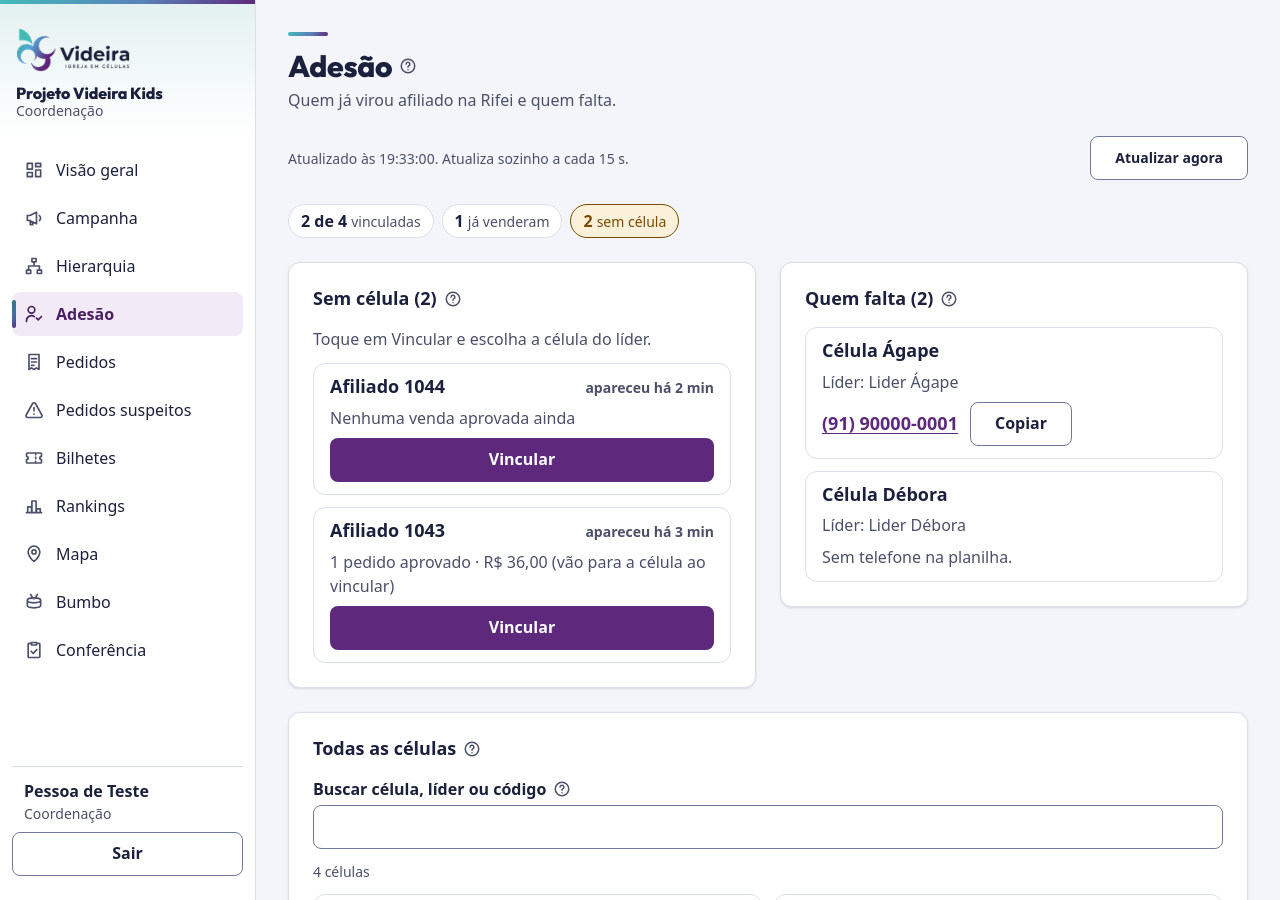
CA3: painel de adesão (/coordenacao/adesao) › sem área de transferência, avisa que não deu para copiar
Expected: the text "Atualizado às 19:33:00. Atualiza sozinho a cada 15 s." is shown, 288,148 -> 629,168
Click the button named "Copiar o telefone de Lider Ágape": click(1021, 424) 970,402 -> 1072,446
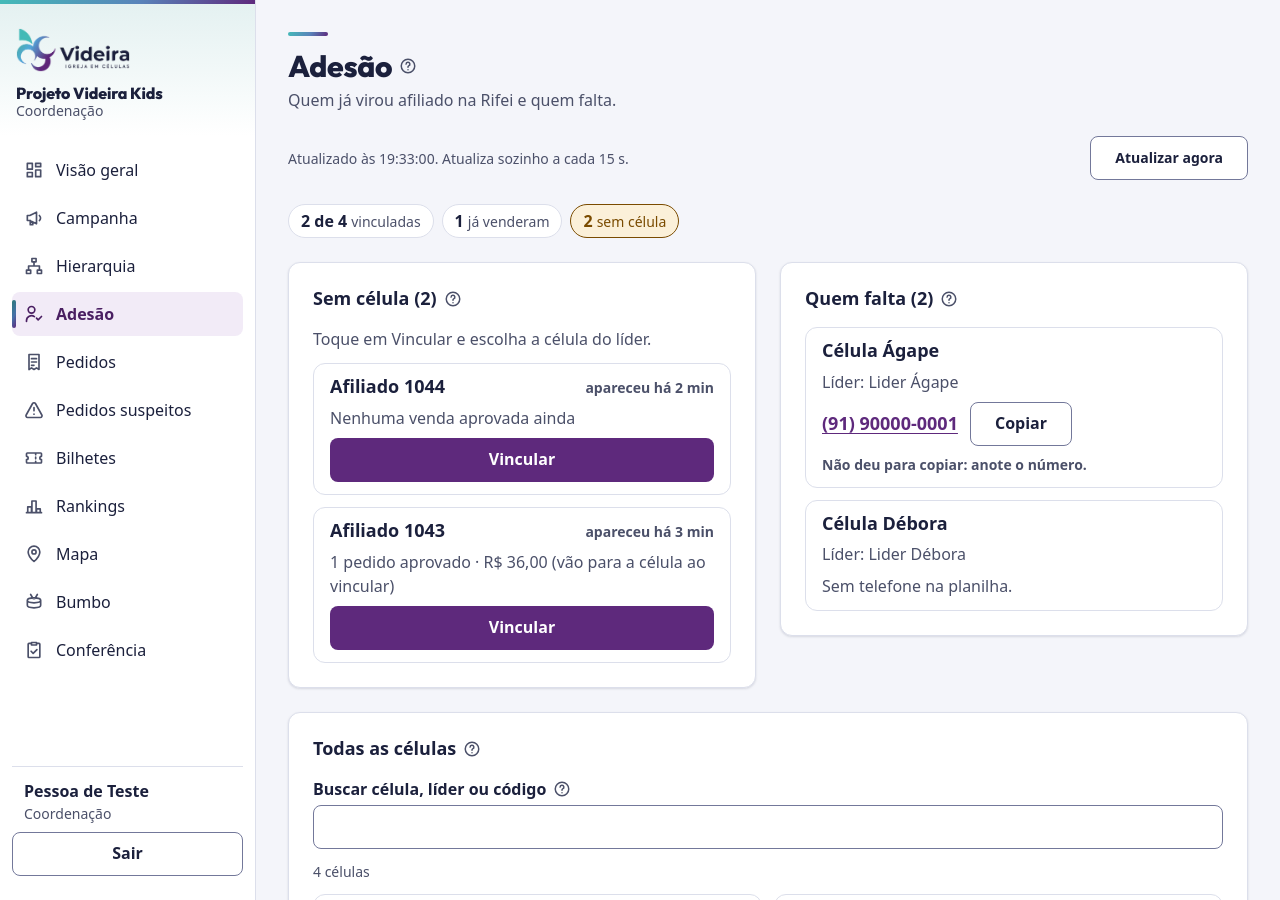
Expected: the text "Não deu para copiar: anote o número." is shown, 822,454 -> 1087,475
